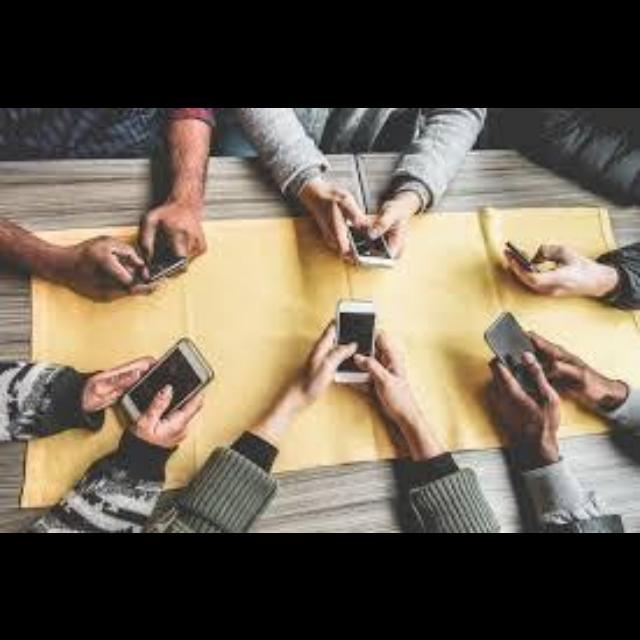Phone: (115, 324, 222, 420), (480, 322, 554, 403), (333, 298, 379, 390), (342, 210, 408, 274), (126, 252, 204, 288)
